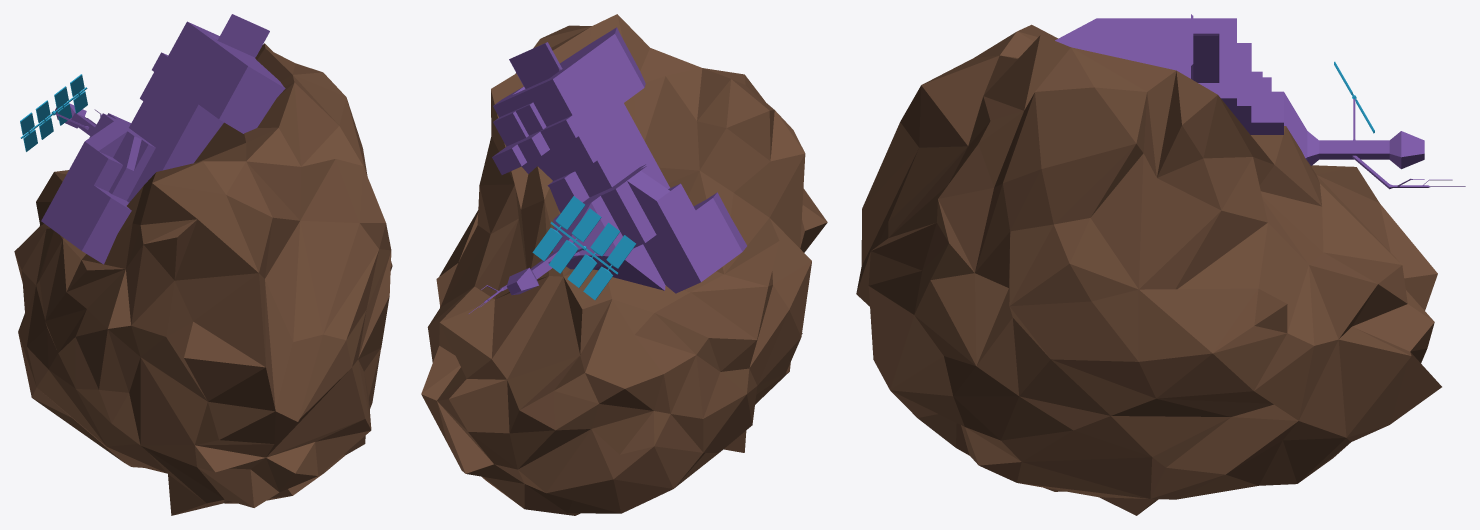
The model's file is Asteroid Colony.fbx.
The picture shows the model from 3 angles, left to right: view 1: azimuth 30°, elevation 25°; view 2: azimuth 150°, elevation 25°; view 3: azimuth 270°, elevation 25°; orthographic projection. The views are drawn at different scales.
Visible parts, largest first — view 1: Asteroid, Station, Panels; view 2: Asteroid, Station, Panels; view 3: Asteroid, Station.
Boxes of the visible parts, x1,y1,x2,y2 form: Asteroid: [14, 43, 392, 515]; Station: [41, 14, 285, 264]; Panels: [20, 74, 87, 151]; Asteroid: [421, 14, 827, 515]; Station: [468, 27, 746, 314]; Panels: [532, 196, 635, 300]; Asteroid: [856, 24, 1441, 515]; Station: [1055, 14, 1465, 189].
Bounding box in the file's own units: 84010 × 121912 × 129980.
